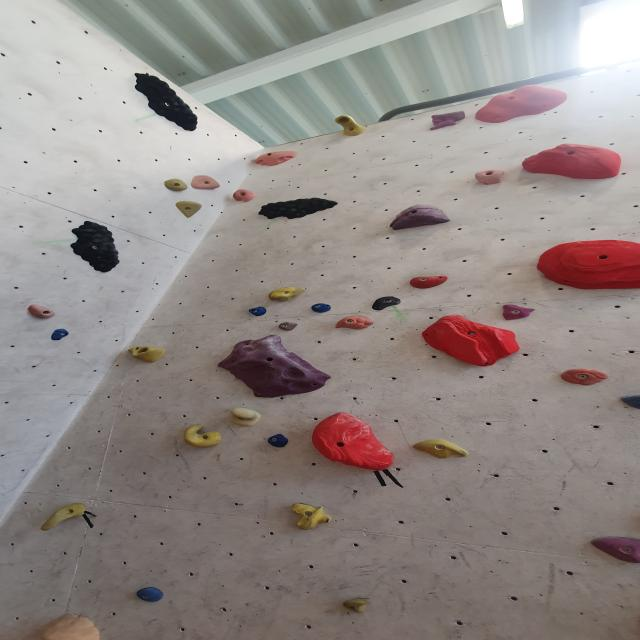Crimp: (216, 336, 335, 400), (534, 241, 640, 292), (418, 318, 520, 370), (589, 534, 640, 564), (411, 440, 473, 462), (557, 367, 611, 386), (428, 108, 469, 130), (501, 304, 537, 323), (408, 275, 450, 290), (339, 596, 373, 614), (266, 286, 306, 301), (134, 588, 166, 604), (267, 433, 292, 448), (276, 321, 301, 332), (245, 307, 270, 318), (49, 329, 70, 341), (309, 302, 334, 312)
Jug: (130, 72, 206, 134), (67, 222, 125, 275), (254, 196, 340, 221), (285, 500, 338, 534), (37, 504, 88, 534), (180, 424, 222, 449), (331, 115, 371, 136), (228, 408, 262, 429), (172, 201, 204, 220), (188, 175, 220, 192), (162, 178, 191, 194), (231, 187, 258, 202)
Pinch: (472, 168, 508, 188), (24, 305, 59, 321)
Pocket: (120, 341, 170, 362)
Sloper: (308, 415, 400, 473), (517, 145, 625, 183), (473, 86, 572, 126), (387, 204, 455, 231), (32, 615, 104, 640), (250, 148, 300, 168), (334, 316, 374, 330)
